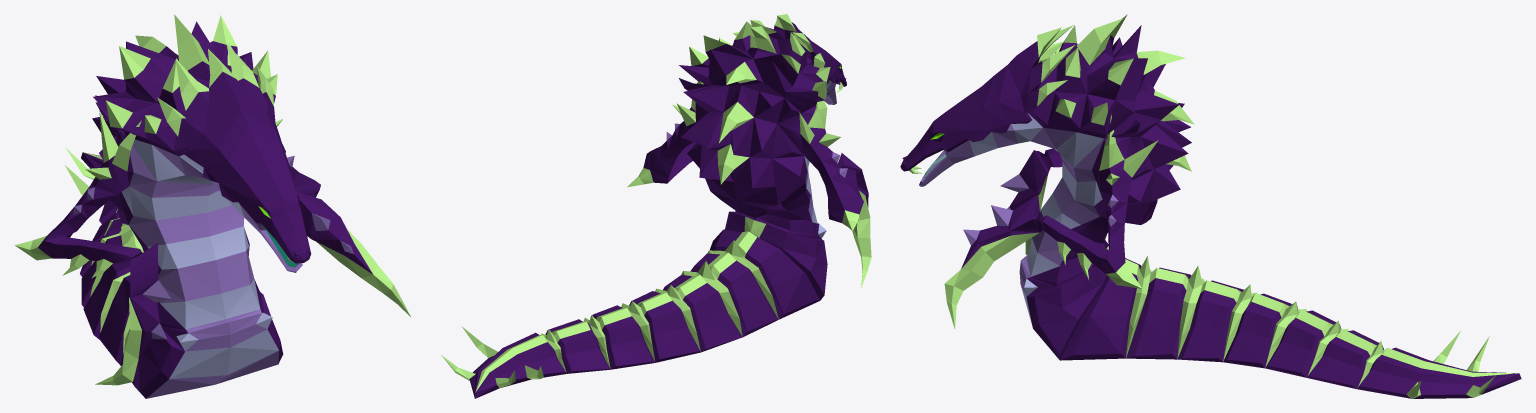
The model's file is Walk (24).obj.
3 views of the same model, side by side, from view 1: azimuth 30°, elevation 25°; view 2: azimuth 150°, elevation 25°; view 3: azimuth 270°, elevation 25° (orthographic). The views are drawn at different scales.
Parts seen in each view (by area): view 1: Alien_Serpent; view 2: Alien_Serpent; view 3: Alien_Serpent.
Part boxes in pixels (bbox=[...]): Alien_Serpent: bbox=[15, 14, 410, 398]; Alien_Serpent: bbox=[441, 14, 871, 398]; Alien_Serpent: bbox=[900, 14, 1521, 398].
Bounding box in the file's own units: 221 × 216 × 383.
Materials: 1 (1 with a texture image).
